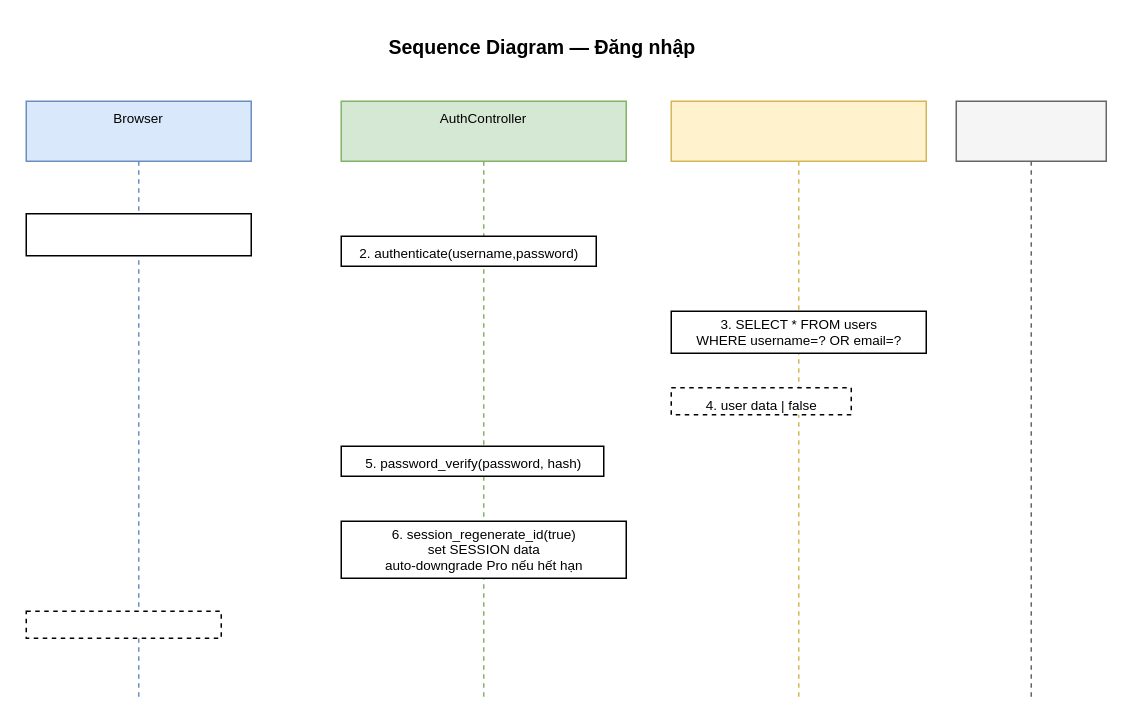
Image size: 1133x728. Some labels were removed from this diagram. The box of each missing label's shape, as (x1, y1, x2, y2) in pixels:
1. POST /auth/login (username, password): (25, 212, 251, 256)
7. redirect home | admin: (25, 610, 221, 638)
Database: (955, 100, 1106, 701)
User Model: (670, 100, 926, 701)
